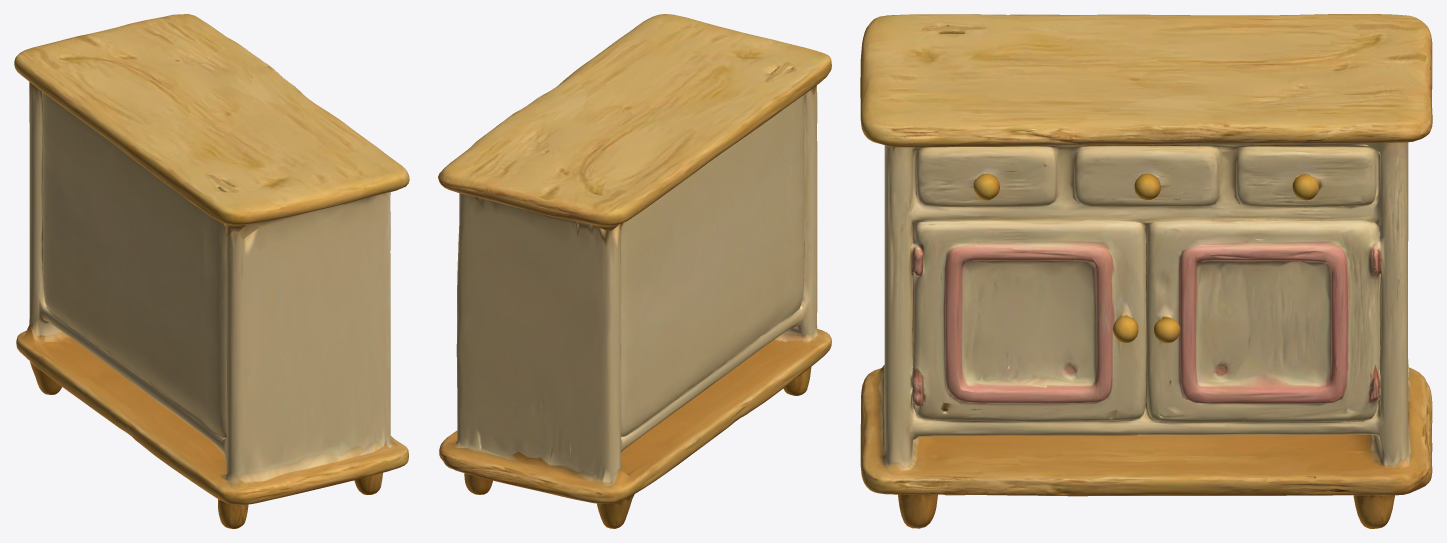
The model's file is room-dresser-cabinet.glb.
3 renders of one model, left to right at view 1: azimuth 30°, elevation 25°; view 2: azimuth 150°, elevation 25°; view 3: azimuth 270°, elevation 25°, orthographic. The views are drawn at different scales.
Visible parts, largest first — view 1: tripo_node_a9a46cfb-5057-410c-b792-d6e2aa6b8b31; view 2: tripo_node_a9a46cfb-5057-410c-b792-d6e2aa6b8b31; view 3: tripo_node_a9a46cfb-5057-410c-b792-d6e2aa6b8b31.
Boxes of the visible parts, x1,y1,x2,y2 form: tripo_node_a9a46cfb-5057-410c-b792-d6e2aa6b8b31: (14,14,409,528); tripo_node_a9a46cfb-5057-410c-b792-d6e2aa6b8b31: (438,14,831,528); tripo_node_a9a46cfb-5057-410c-b792-d6e2aa6b8b31: (860,14,1432,528).
Size of the model in its own units: 0.492 by 0.7871 by 0.9781.
Materials: 1 (1 with a texture image).
